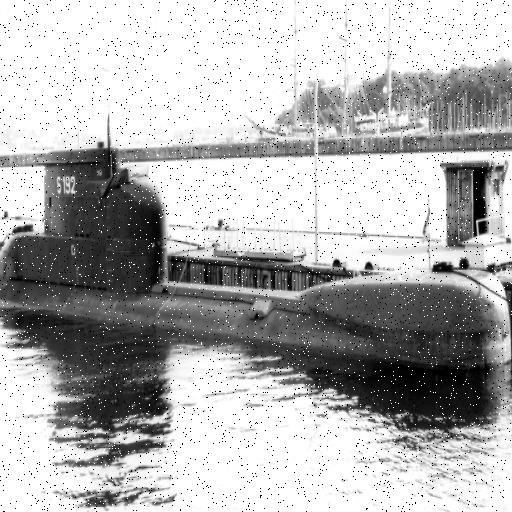submarine: (1, 142, 512, 368)
